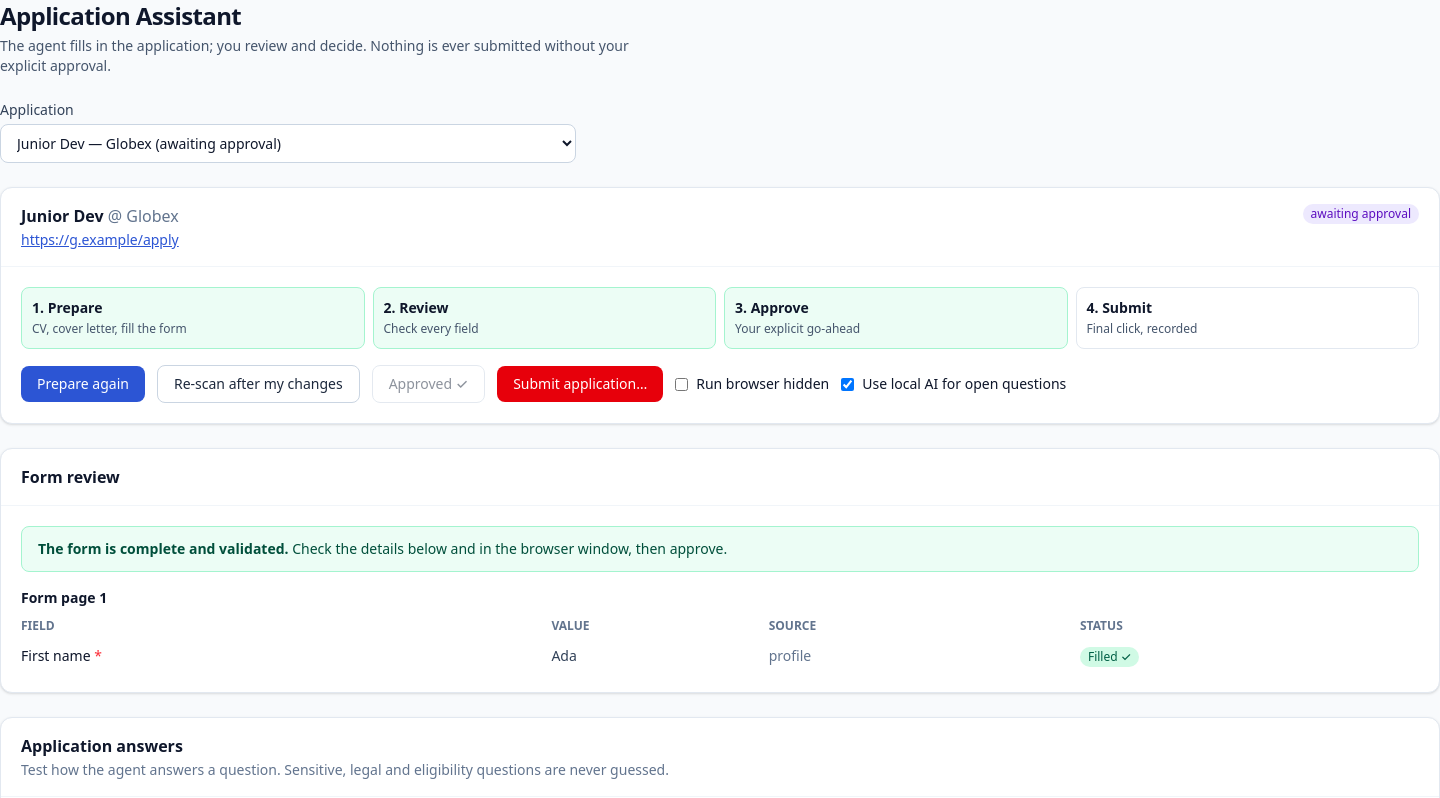
ApplicationAssistantPage — approval gate › surfaces a failed submission without claiming success
Click the button "Submit application…" at [580, 384], box x1=497 y1=366 x2=663 y2=402
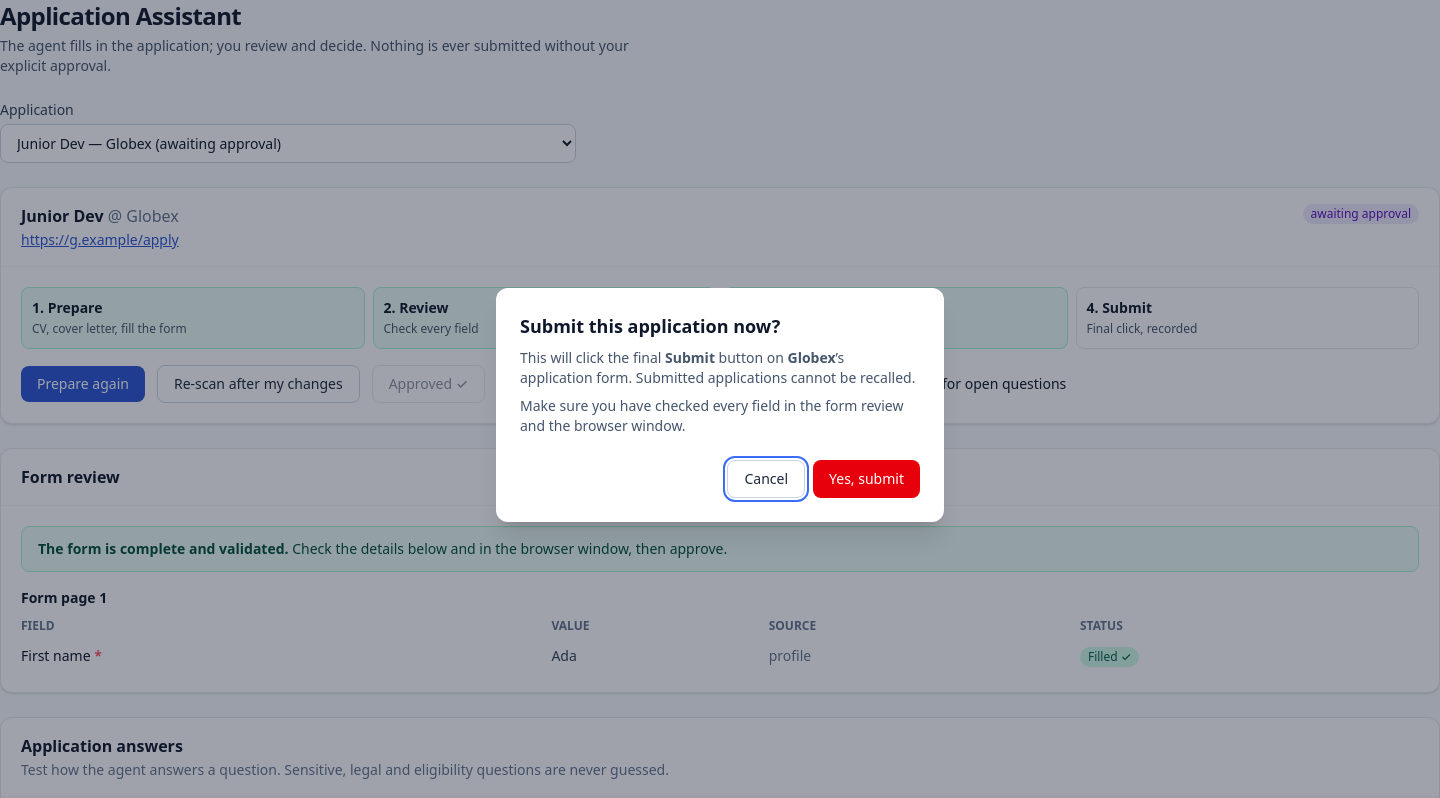
Click the button "Yes, submit" at [866, 479], box x1=813 y1=460 x2=920 y2=498
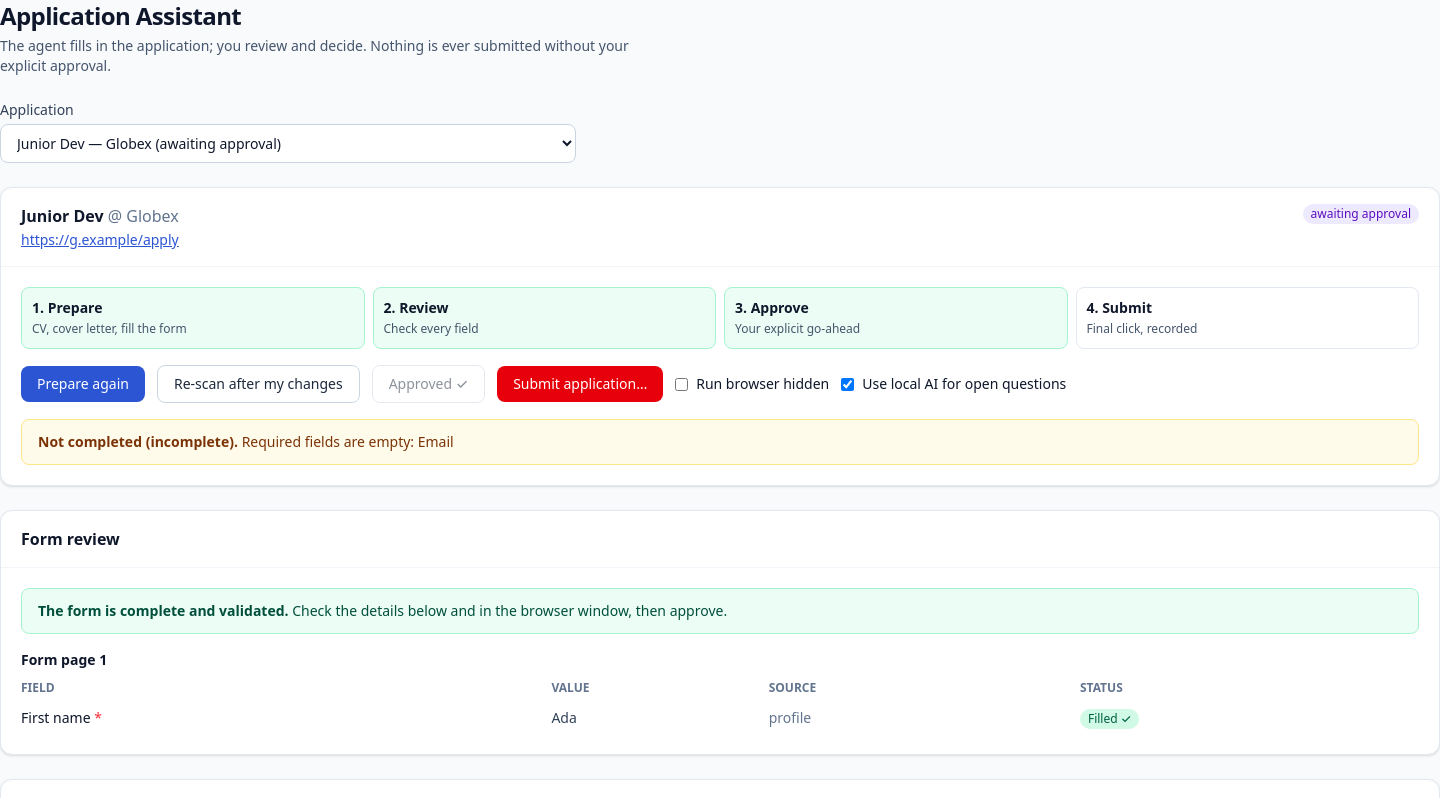
Expected: the text "Not completed (incomplete)." is shown, x1=38 y1=432 x2=238 y2=451
Expected: the text "Not completed (incomplete). Required fields are empty: Email" is shown, x1=21 y1=419 x2=1419 y2=465
